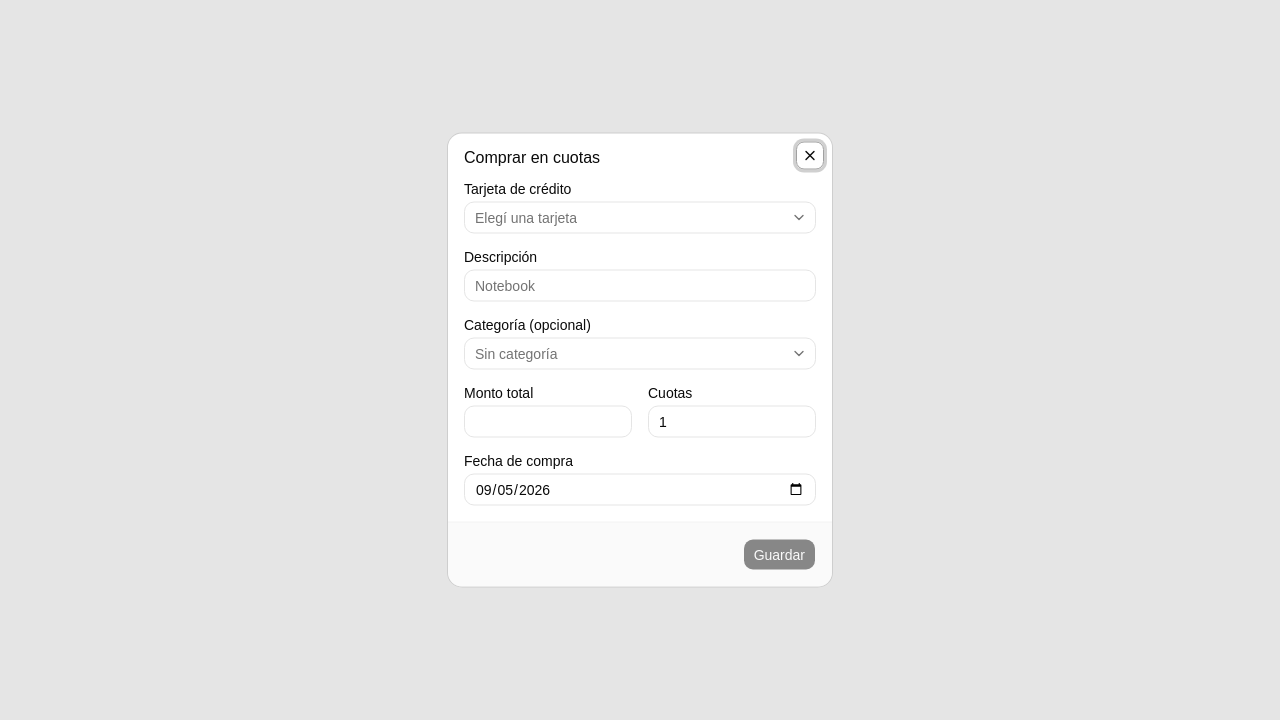
Scenario: InstallmentPurchaseDialog › only lists credit cards for the card selector
Click the dropdown named "tarjeta de crédito" at point(526, 218), box 464,202 -> 816,234
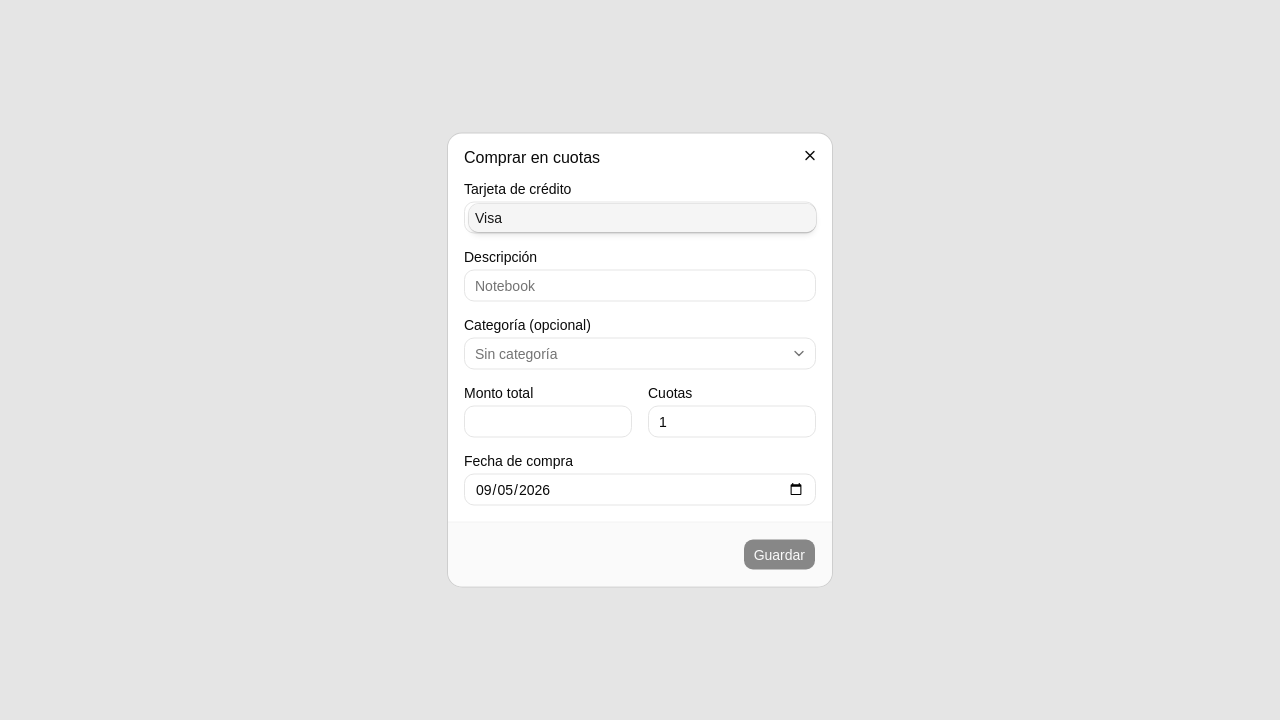
Expected: the option "Visa" is shown, 469,204 -> 816,232
